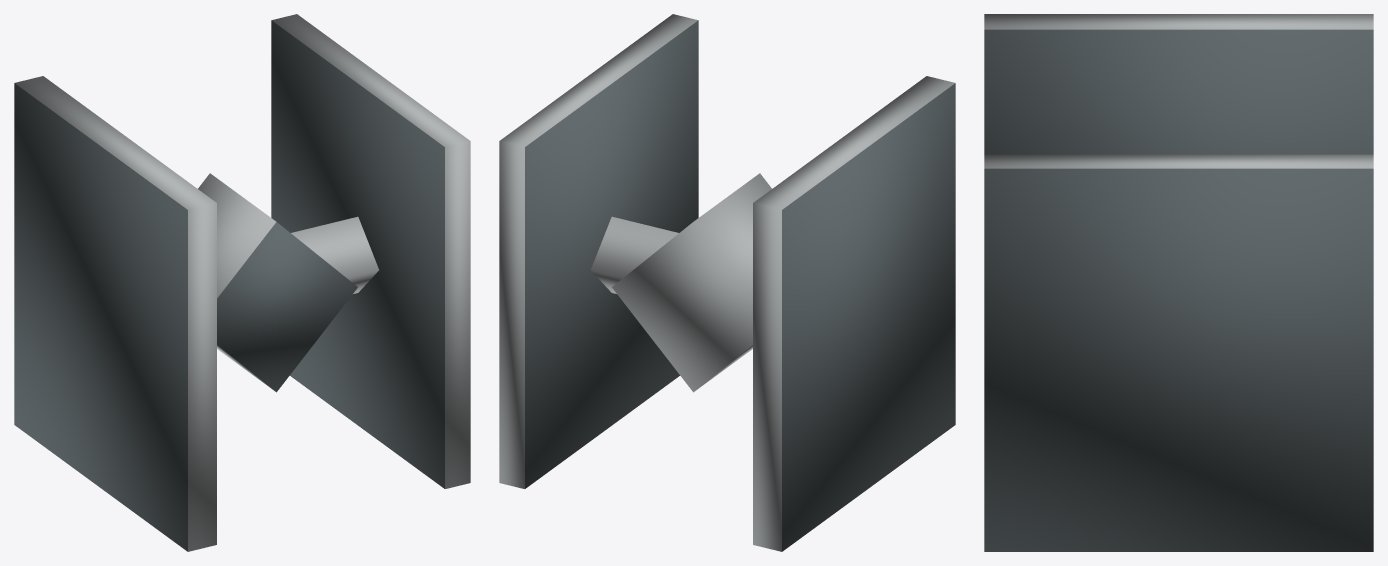
The model's file is TieFighter.fbx.
3 views of the same model, side by side, from view 1: azimuth 30°, elevation 25°; view 2: azimuth 150°, elevation 25°; view 3: azimuth 270°, elevation 25° (orthographic). The views are drawn at different scales.
Parts seen in each view (by area): view 1: LOD; view 2: LOD; view 3: LOD.
Boxes of the visible parts, x1,y1,x2,y2 form: LOD: [14, 14, 470, 551]; LOD: [499, 14, 955, 551]; LOD: [984, 14, 1373, 551].
Size of the model in its own units: 7.38 by 8.53 by 7.85.
